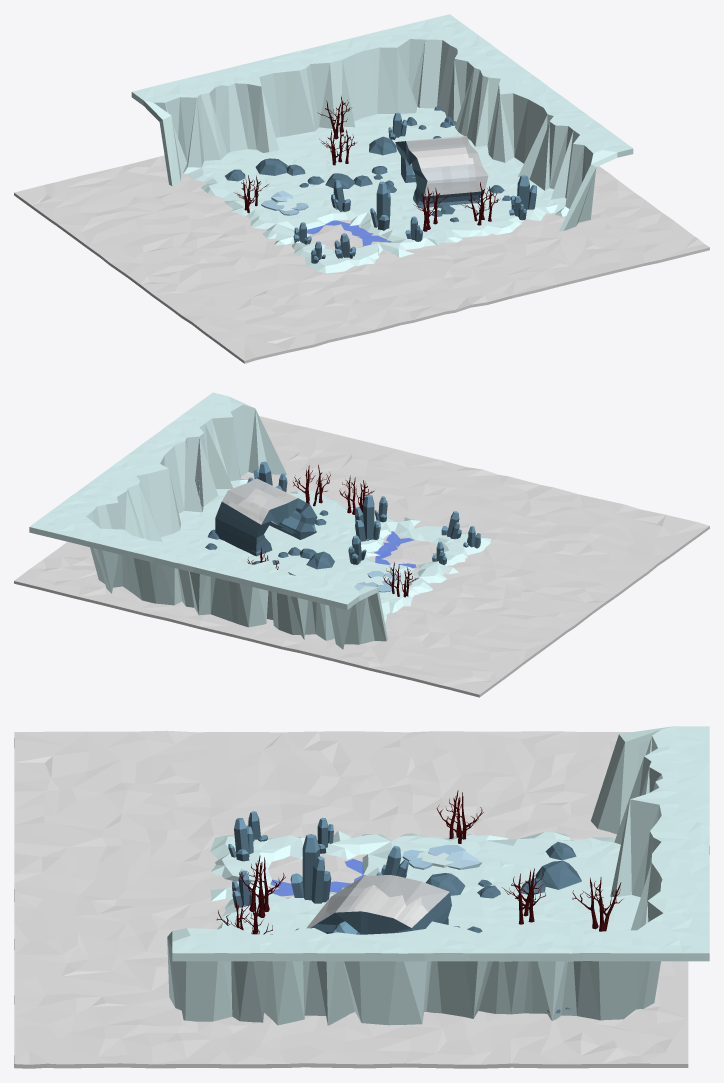
Rendered from IceFloor.fbx.
The picture shows the model from 3 angles, top to bottom: view 1: azimuth 30°, elevation 25°; view 2: azimuth 150°, elevation 25°; view 3: azimuth 270°, elevation 25°; orthographic projection. The views are drawn at different scales.
Parts seen in each view (by area): view 1: MainIce, Ocean, Archway, SM_Generic_Small_Rocks_04, IceBlock.002, MainIce.001, IceBlock.011; view 2: Ocean, MainIce, Archway, IceBlock.002, MainIce.001, SM_Generic_Small_Rocks_03.001; view 3: Ocean, MainIce, Archway, IceBlock.002, SM_Generic_Small_Rocks_04, IceBlock.008, MainIce.001, IceBlock, SM_Generic_Small_Rocks_03.001, IceBlock.003.
Boxes of the visible parts, x1=… form: MainIce: x1=131, y1=14, x2=633, y2=273; Ocean: x1=14, y1=155, x2=709, y2=363; Archway: x1=395, y1=136, x2=488, y2=207; SM_Generic_Small_Rocks_04: x1=225, y1=158, x2=305, y2=181; IceBlock.002: x1=370, y1=181, x2=390, y2=230; MainIce.001: x1=307, y1=220, x2=391, y2=245; IceBlock.011: x1=511, y1=175, x2=536, y2=210; Ocean: x1=14, y1=416, x2=709, y2=697; MainIce: x1=29, y1=392, x2=491, y2=649; Archway: x1=215, y1=478, x2=317, y2=556; IceBlock.002: x1=355, y1=495, x2=380, y2=541; MainIce.001: x1=374, y1=531, x2=416, y2=568; SM_Generic_Small_Rocks_03.001: x1=300, y1=548, x2=334, y2=569; Ocean: x1=14, y1=730, x2=688, y2=1068; MainIce: x1=167, y1=726, x2=709, y2=1025; Archway: x1=306, y1=875, x2=451, y2=934; IceBlock.002: x1=290, y1=834, x2=331, y2=903; SM_Generic_Small_Rocks_04: x1=520, y1=842, x2=581, y2=894; IceBlock.008: x1=228, y1=818, x2=253, y2=861; MainIce.001: x1=270, y1=859, x2=365, y2=896; IceBlock: x1=376, y1=845, x2=408, y2=877; SM_Generic_Small_Rocks_03.001: x1=425, y1=873, x2=465, y2=895; IceBlock.003: x1=232, y1=870, x2=251, y2=907.
Size of the model in its own units: 17569 by 2626 by 15544.
